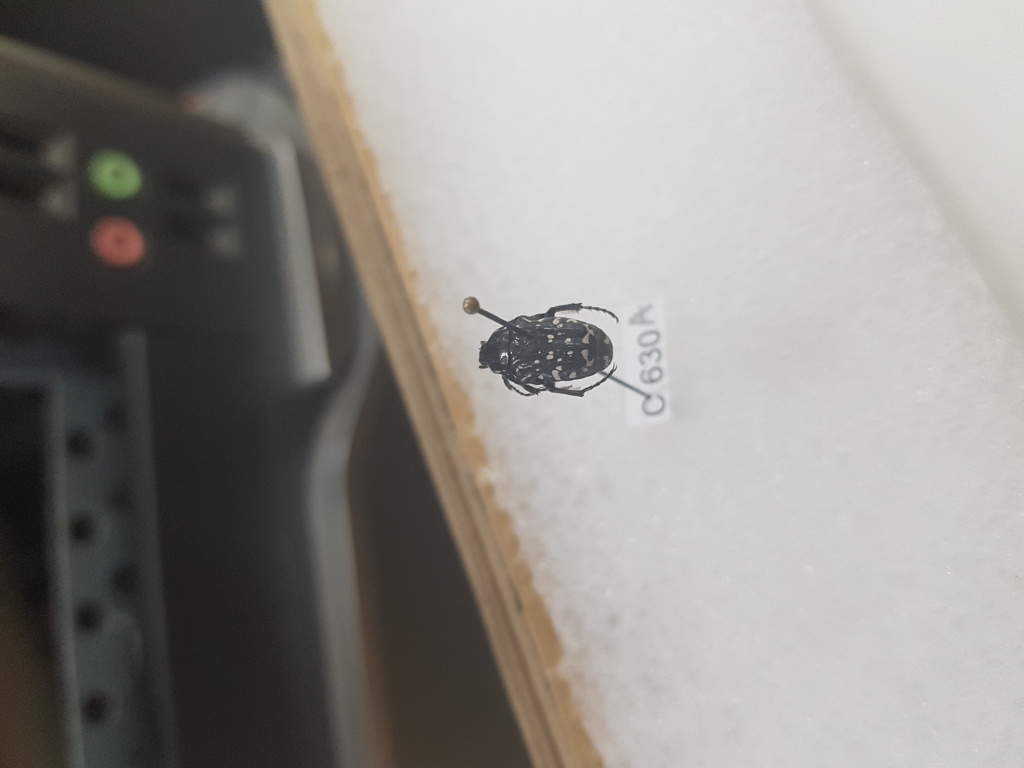Oxythyrea_albopicta: (475, 301, 621, 406)
